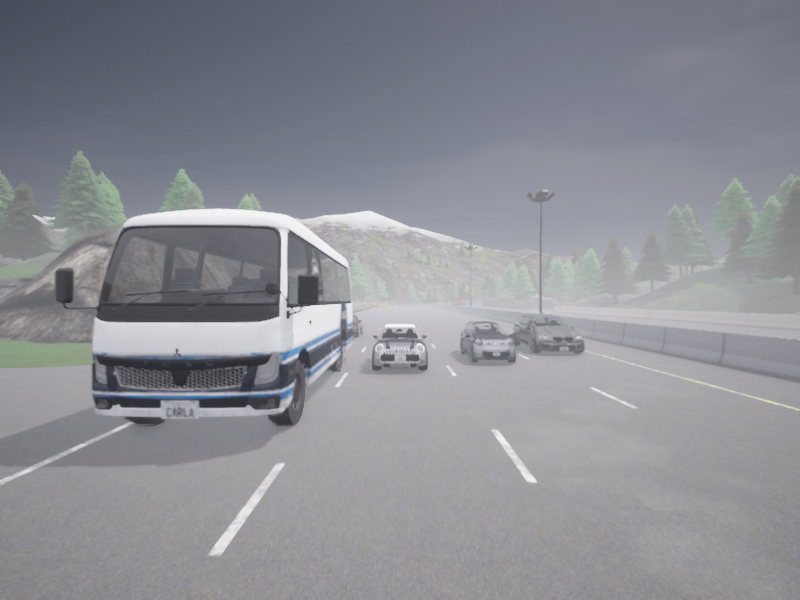vehicle: (55, 209, 352, 425), (512, 315, 584, 353), (372, 324, 427, 370), (460, 321, 516, 363), (352, 314, 363, 338), (458, 300, 464, 304), (466, 300, 472, 303), (462, 302, 467, 305), (454, 303, 458, 305), (453, 302, 457, 304), (474, 302, 476, 304)
